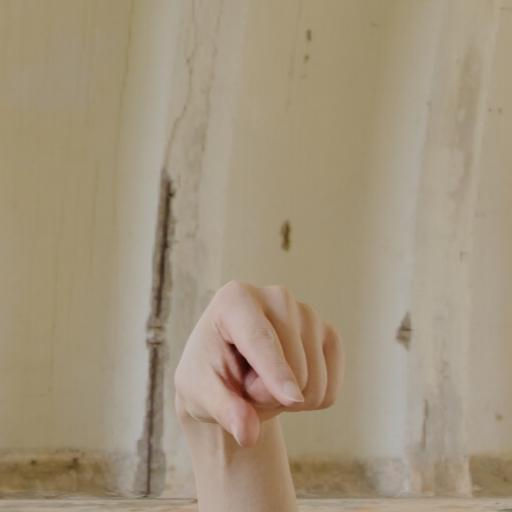Q: (166, 271, 354, 465)
